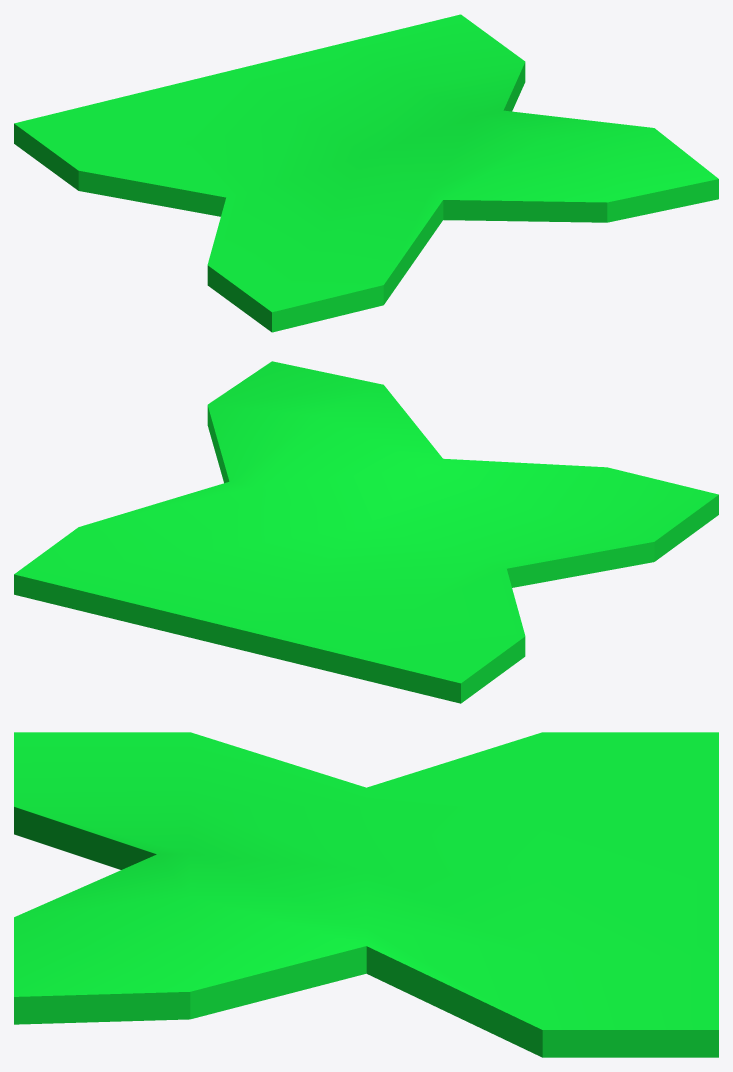
The model's file is post-X-1.fbx.
The picture shows the model from 3 angles, top to bottom: view 1: azimuth 30°, elevation 25°; view 2: azimuth 150°, elevation 25°; view 3: azimuth 270°, elevation 25°; orthographic projection. The views are drawn at different scales.
Parts seen in each view (by area): view 1: Plane; view 2: Plane; view 3: Plane.
Part boxes in pixels (x1,y1,x2,y2): Plane: (14,14,718,332); Plane: (14,361,718,703); Plane: (14,732,718,1057).
Bounding box in the file's own units: 200 × 27.18 × 200.
